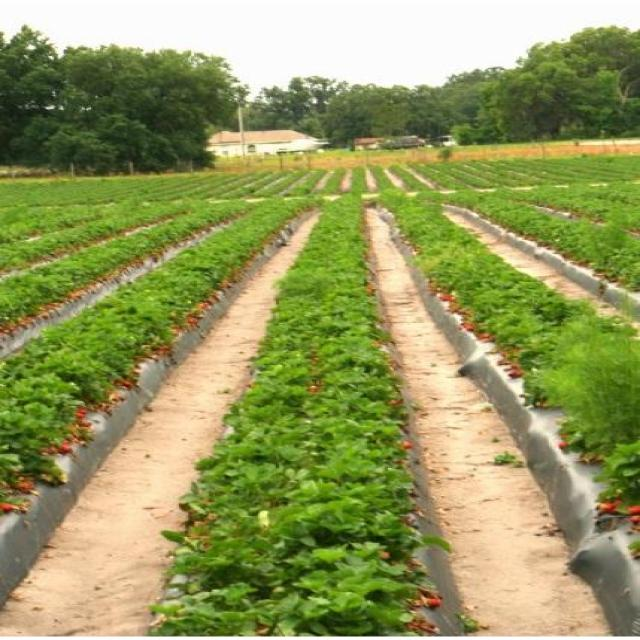row: (0, 205, 328, 632), (370, 207, 632, 637), (443, 204, 640, 346)
